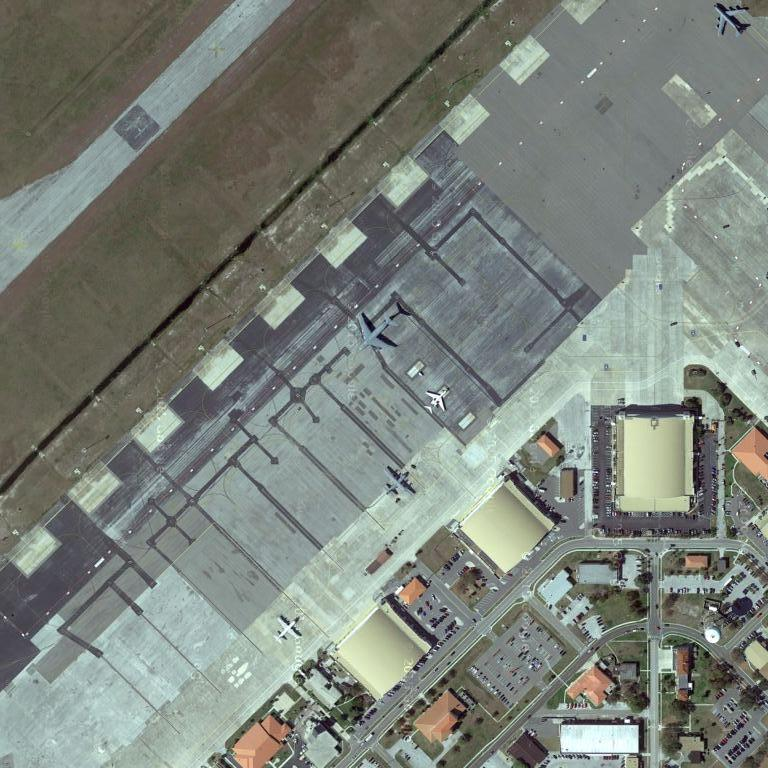C-130: (382, 466, 416, 503)
C-17: (350, 306, 403, 356)
KC-135: (710, 3, 752, 43)
P-3C: (272, 615, 301, 645)
